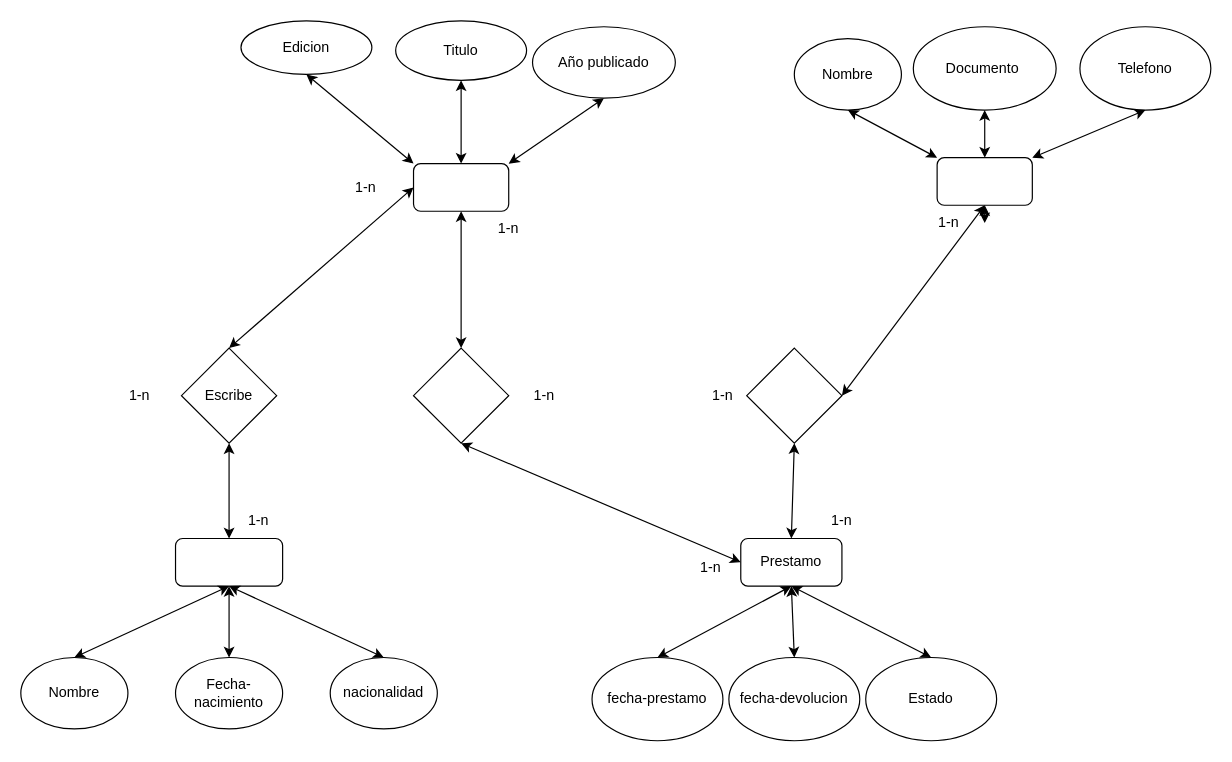
Some shapes in this 1232 by 762 pixel diagram are drawn without their labels. Here are the shapes that lost their labels. From the top down, the box of each, then its label:
(412, 162, 509, 211): libro
(936, 156, 1032, 205): Usuario
(412, 347, 509, 443): incluye
(746, 347, 842, 443): Solicita
(174, 537, 283, 586): Autor
